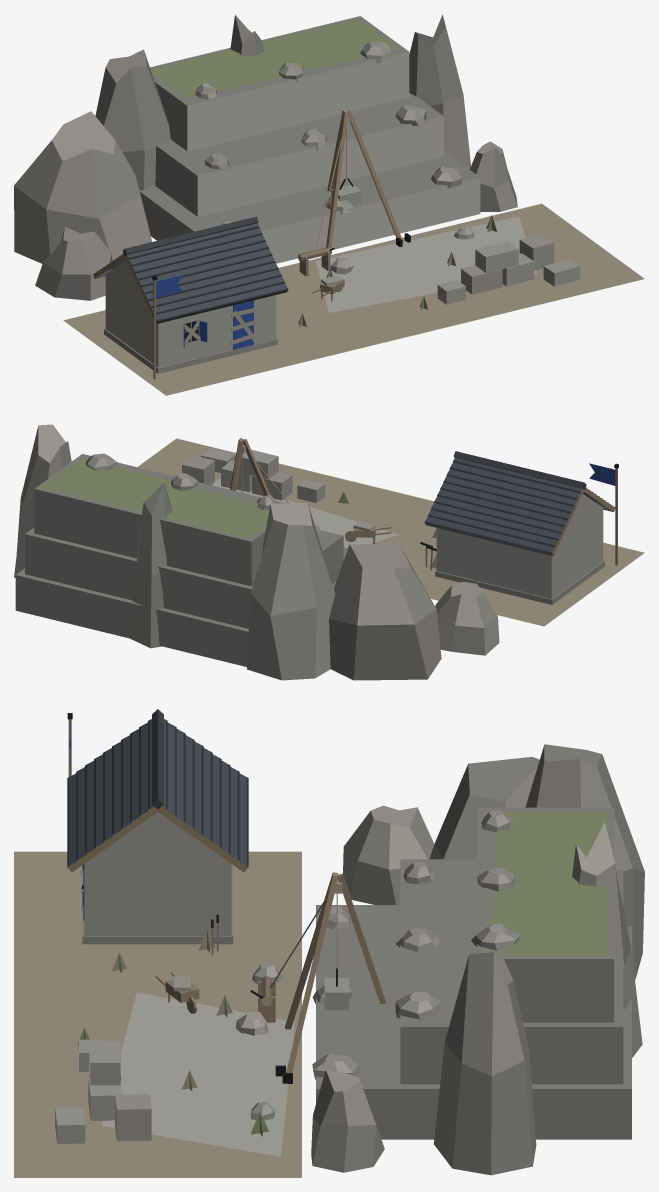
Rendered from steinbruch.glb.
The picture shows the model from 3 angles, top to bottom: view 1: azimuth 30°, elevation 25°; view 2: azimuth 150°, elevation 25°; view 3: azimuth 270°, elevation 25°; orthographic projection. The views are drawn at different scales.
Parts seen in each view (by area): view 1: Haus, Arbeit, Leerstand, Fahne; view 2: Haus, Arbeit, Fahne; view 3: Haus, Arbeit, Leerstand.
Part boxes in pixels (x1=…): Haus: x1=14, y1=14, x2=644, y2=395; Arbeit: x1=298, y1=109, x2=579, y2=304; Leerstand: x1=182, y1=215, x2=496, y2=345; Fahne: x1=152, y1=275, x2=182, y2=379; Haus: x1=14, y1=424, x2=644, y2=680; Arbeit: x1=182, y1=438, x2=436, y2=570; Fahne: x1=589, y1=463, x2=618, y2=565; Haus: x1=14, y1=709, x2=644, y2=1177; Arbeit: x1=55, y1=872, x2=385, y2=1143; Leerstand: x1=77, y1=866, x2=268, y2=1136.
Size of the model in its own units: 22 by 7.01 by 17.97.
